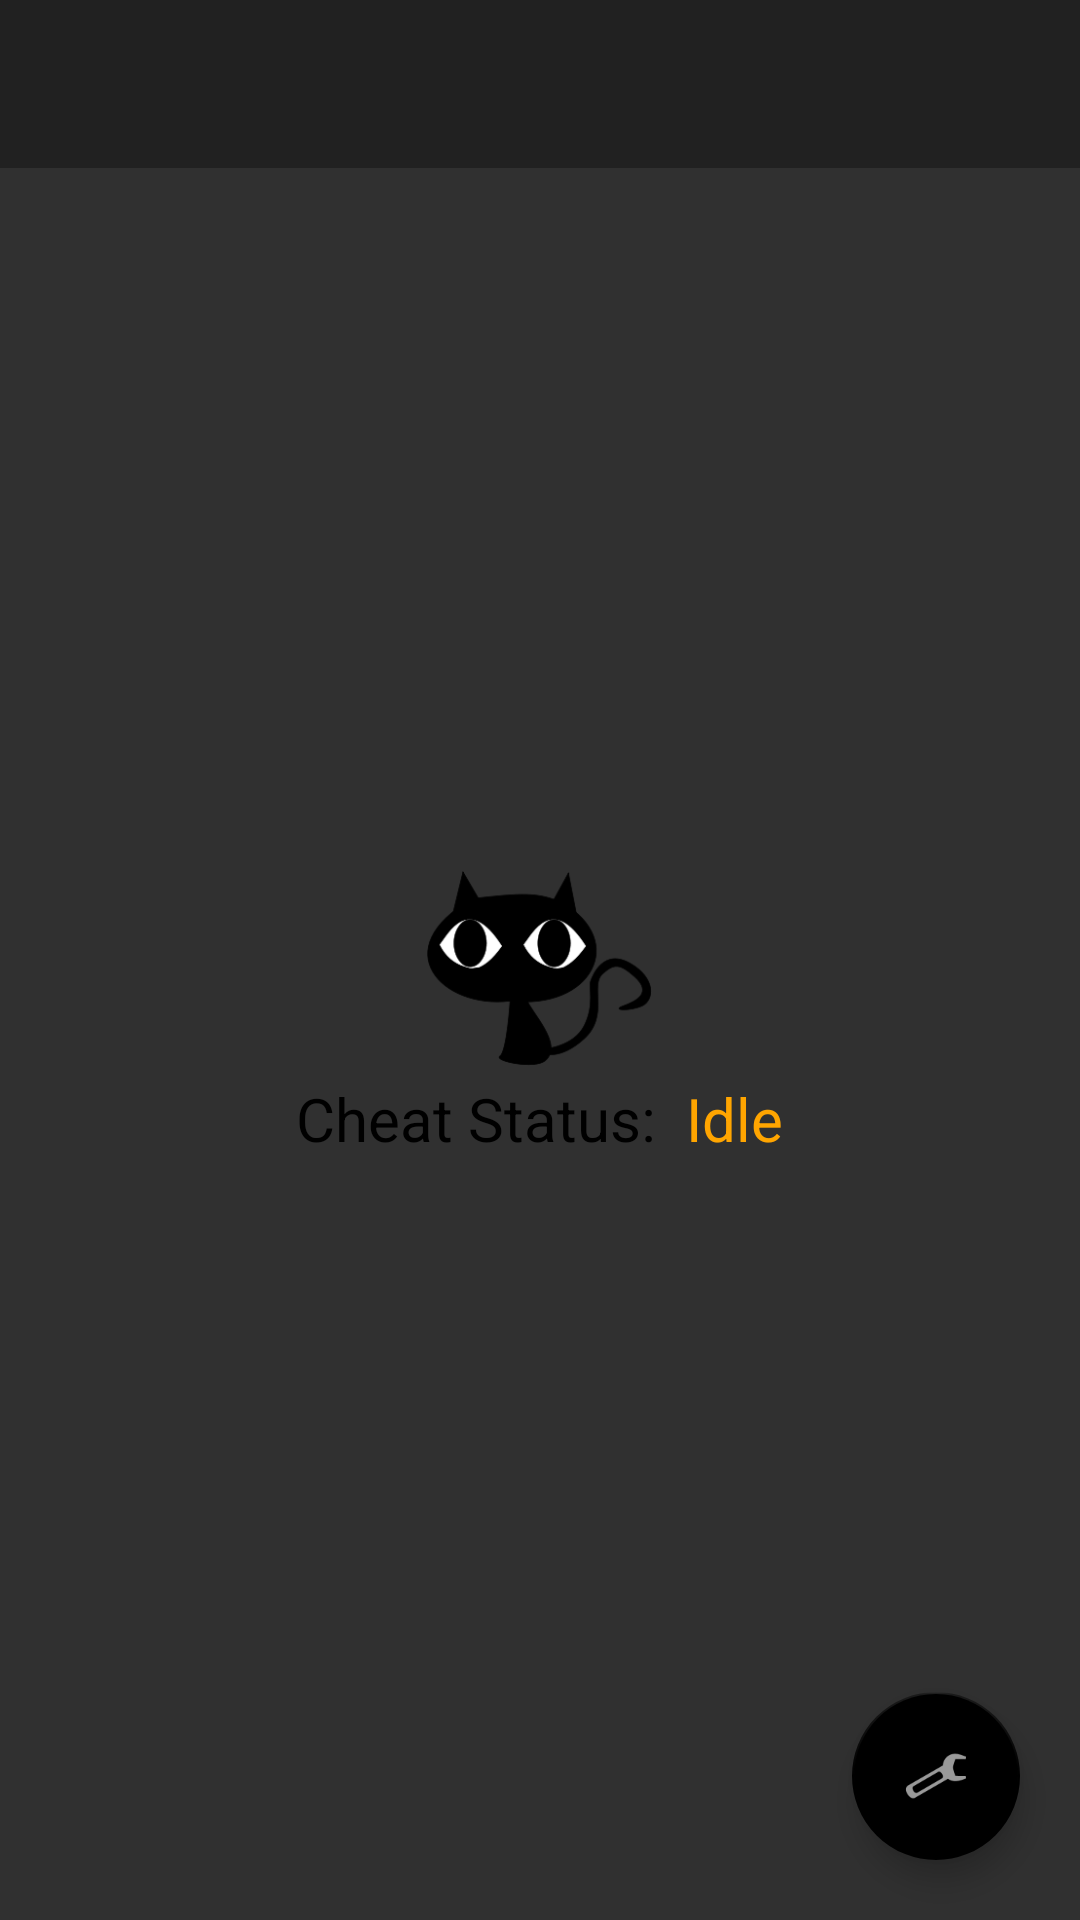

Named icons in this screenshot (1080px×1920px) and their bounding boxes, (x1, y1, x2, y2):
manage: (852, 1694, 1020, 1860)
